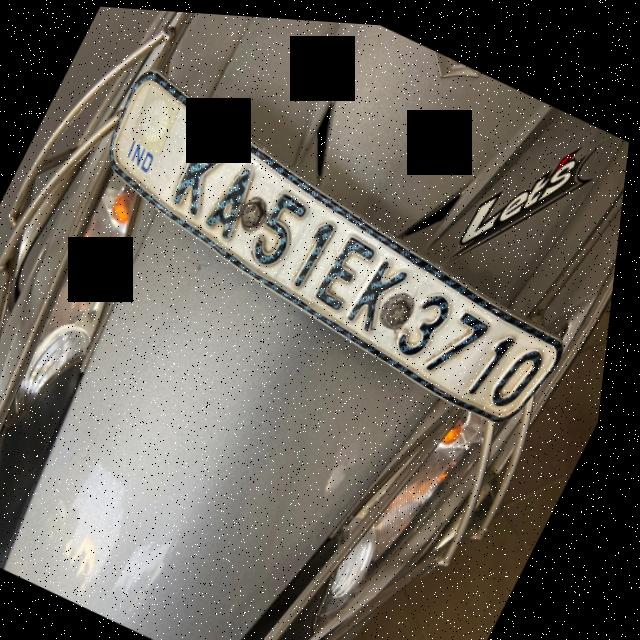0: (490, 322, 564, 419)
1: (467, 311, 529, 402), (285, 205, 348, 294)
3: (395, 273, 468, 369)
5: (243, 167, 330, 285)
7: (423, 287, 506, 390)
A: (201, 140, 277, 244)
E: (315, 222, 386, 316)
K: (158, 121, 243, 229), (348, 243, 420, 340)
